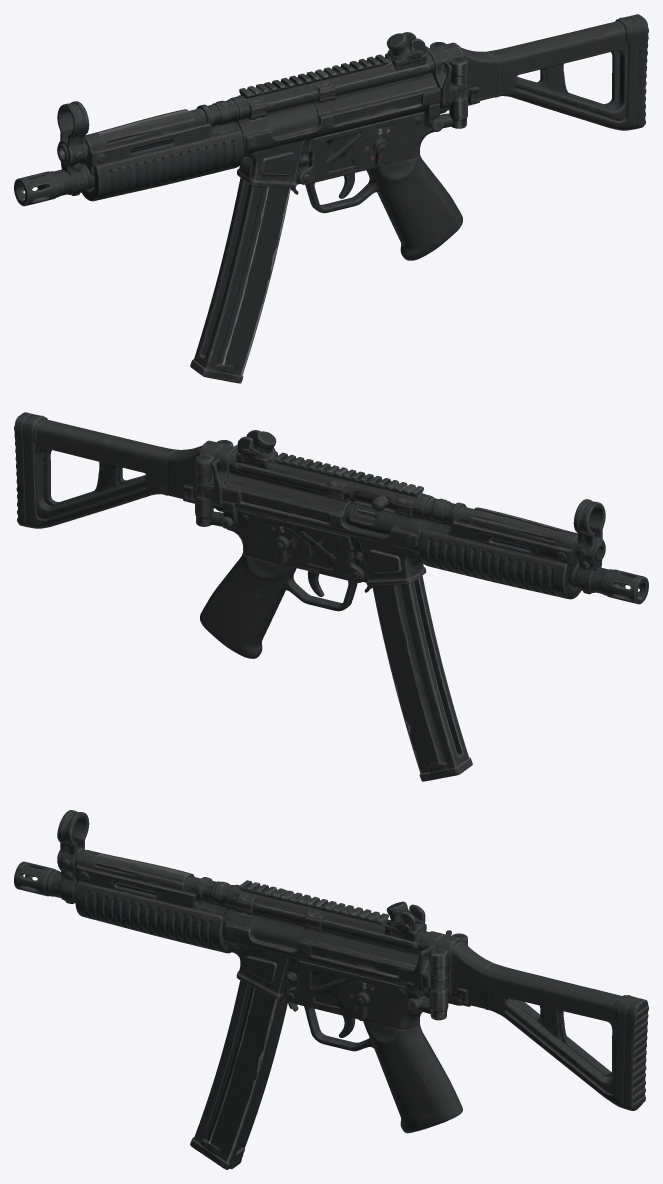
File: smg.glb
3 renders of one model, top to bottom at view 1: azimuth 30°, elevation 25°; view 2: azimuth 150°, elevation 25°; view 3: azimuth 330°, elevation 25°, orthographic.
Size of the model in its own units: 1.9 by 0.9188 by 0.1591.
1 material, 1 textured.
